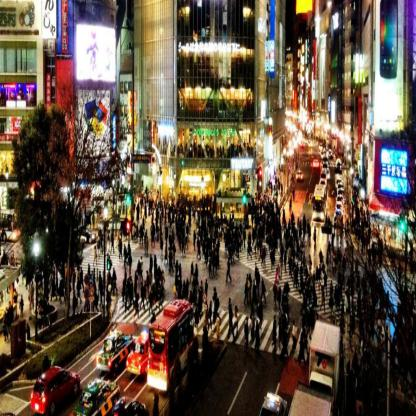Car: (31, 358, 78, 412), (71, 379, 120, 416), (97, 332, 135, 375), (127, 329, 150, 377), (112, 396, 150, 416), (260, 392, 288, 416), (321, 144, 335, 180), (335, 181, 346, 222), (85, 228, 98, 245), (1, 408, 17, 416), (296, 170, 305, 182), (80, 236, 88, 246), (319, 179, 328, 187), (314, 160, 321, 170), (337, 160, 342, 173)
